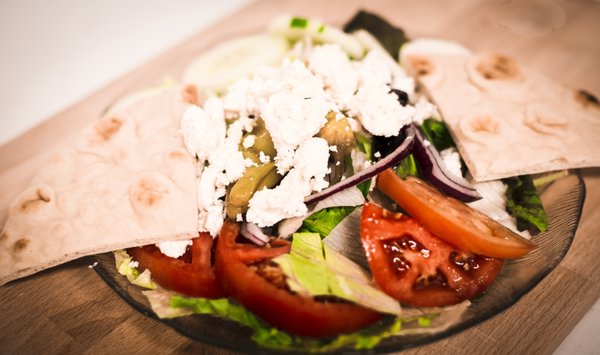curry: (503, 173, 549, 235)
